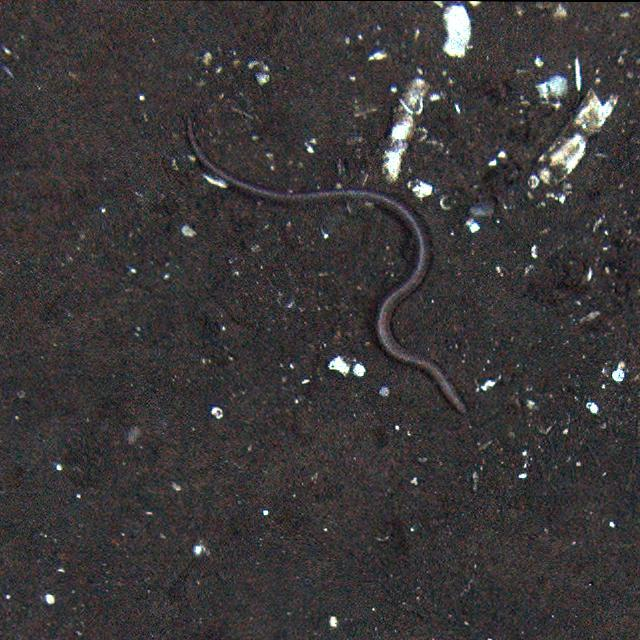eel: (183, 114, 476, 414)
